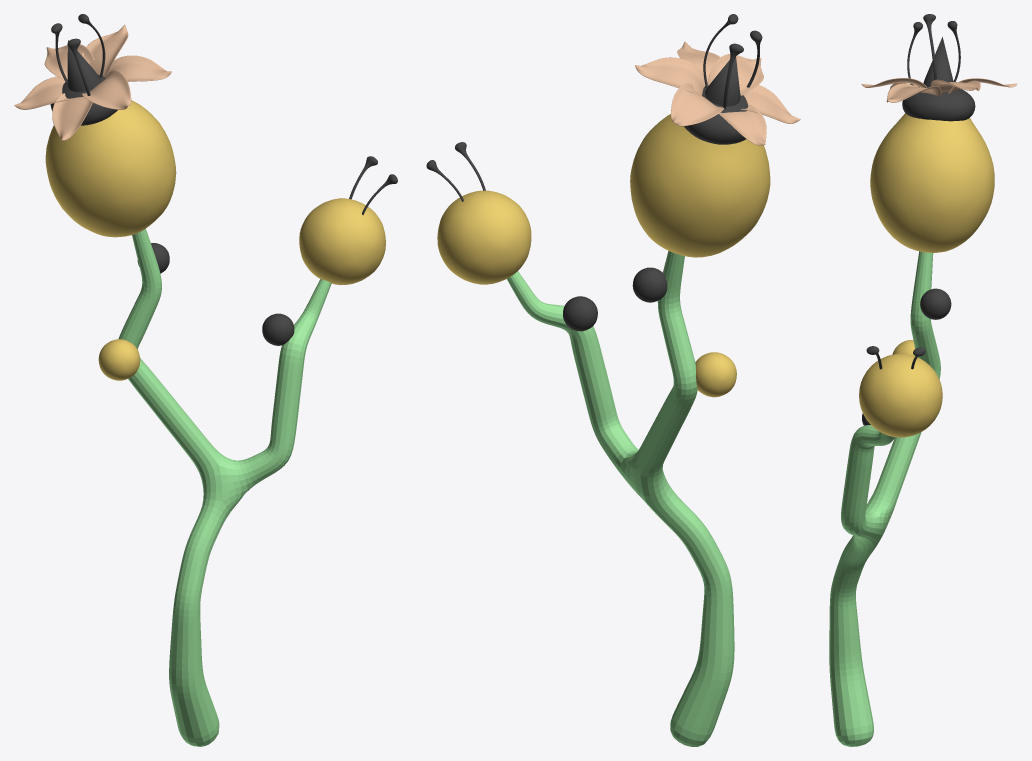
File: BeePlant#4.fbx
The picture shows the model from 3 angles, left to right: view 1: azimuth 30°, elevation 25°; view 2: azimuth 150°, elevation 25°; view 3: azimuth 270°, elevation 25°; orthographic projection. The views are drawn at different scales.
Visible parts, largest first — view 1: Vert.002, Vert, Vert.003, Plane.006, Plane.005, Plane.004, Plane.003, Plane.007, Plane; view 2: Vert.002, Vert, Vert.003, Plane.003, Plane, Plane.007, Plane.006, Plane.005, Plane.004; view 3: Vert.002, Vert, Vert.003, Plane.004, Plane.003.
Boxes of the visible parts, box(x1,y1,x2,y2) form: Vert.002: box(45, 100, 385, 380); Vert: box(118, 228, 331, 746); Vert.003: box(50, 14, 397, 345); Plane.006: box(52, 93, 92, 140); Plane.005: box(82, 70, 131, 109); Plane.004: box(108, 55, 171, 81); Plane.003: box(81, 24, 128, 77); Plane.007: box(14, 76, 70, 109); Plane: box(44, 44, 94, 80); Vert.002: box(437, 114, 770, 397); Vert: box(507, 251, 734, 746); Vert.003: box(426, 14, 762, 331); Plane.003: box(635, 57, 705, 95); Plane: box(671, 83, 723, 126); Plane.007: box(719, 105, 766, 145); Plane.006: box(741, 85, 800, 123); Plane.005: box(707, 54, 763, 95); Plane.004: box(677, 41, 720, 82); Vert.002: box(859, 113, 994, 437); Vert: box(829, 251, 940, 746); Vert.003: box(862, 14, 975, 425); Plane.004: box(886, 83, 941, 102); Plane.003: box(930, 79, 980, 92).
Size of the model in its own units: 563 by 1148 by 282.
